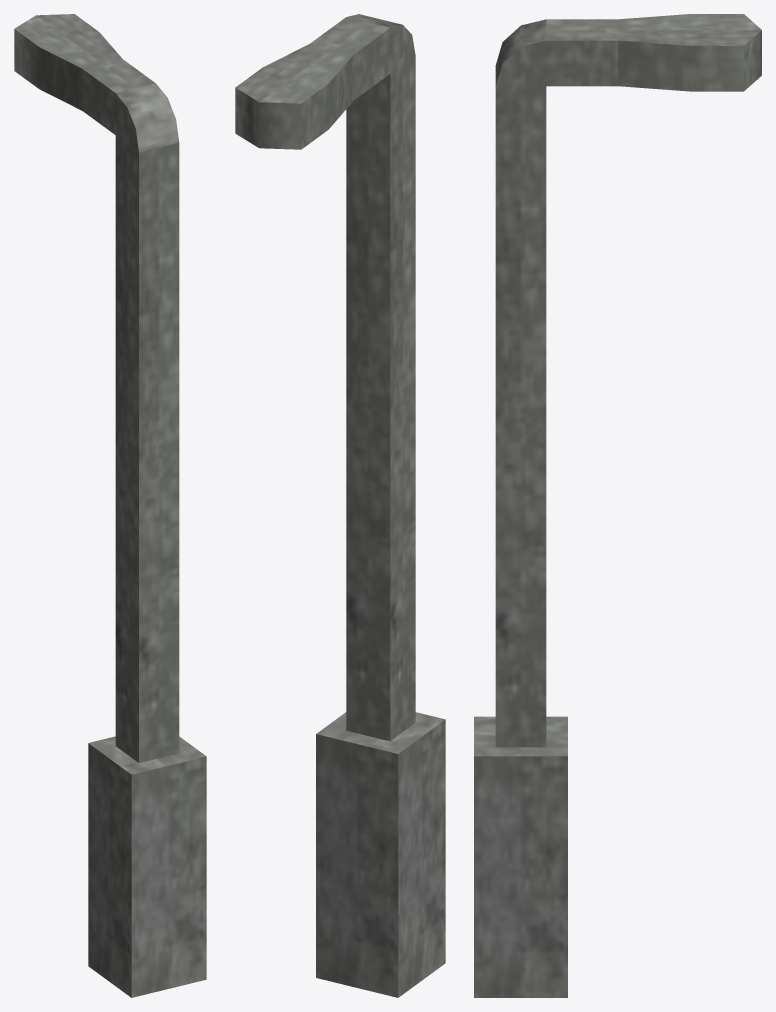
Rendered from detailLight_single.fbx.
3 views of the same model, side by side, from view 1: azimuth 30°, elevation 25°; view 2: azimuth 150°, elevation 25°; view 3: azimuth 270°, elevation 25° (orthographic). The views are drawn at different scales.
Visible parts, largest first — view 1: detailLight_single; view 2: detailLight_single; view 3: detailLight_single.
Part boxes in pixels (box(x1,y1,x2,y2)): detailLight_single: box(14, 14, 206, 997); detailLight_single: box(235, 14, 445, 997); detailLight_single: box(474, 14, 761, 997).
Size of the model in its own units: 0.862 by 9.6 by 2.64.
